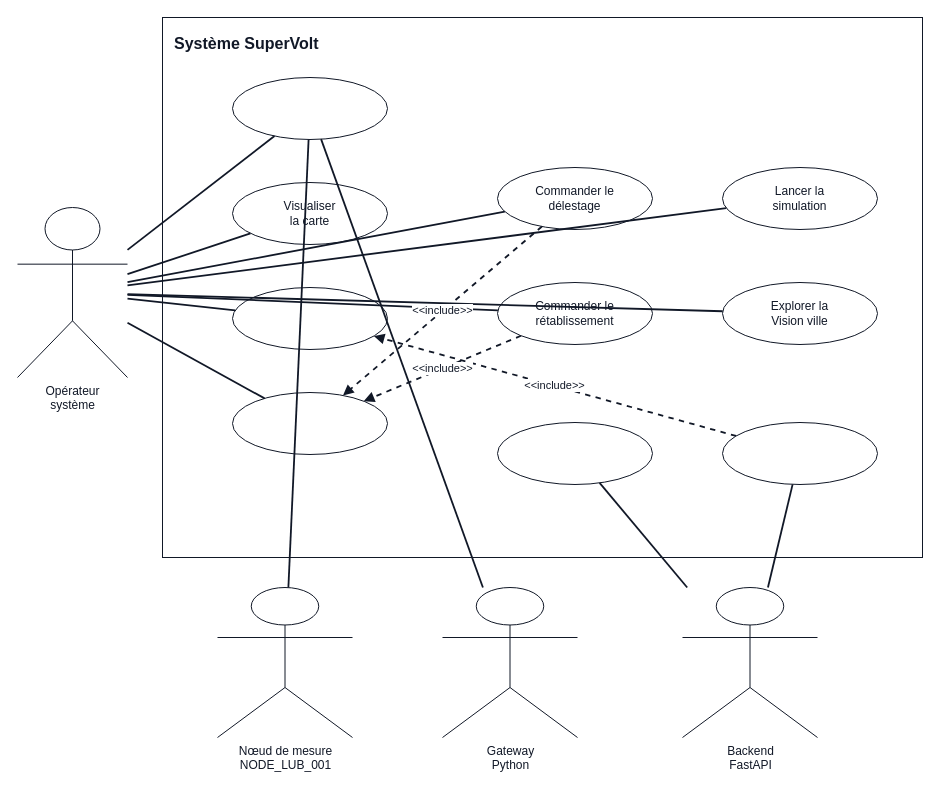
This 940x791 diagram has some shape labels left out. The shapes that lost their labels are listed below. From the top down, each one's centre as x and y in pixels, then its label:
At (310,108): "Consulter les mesures".
At (310,318): "Recevoir les alertes".
At (310,423): "Consulter le journal SCADA".
At (574,453): "Stocker les mesures".
At (800,453): "Détecter les anomalies".
